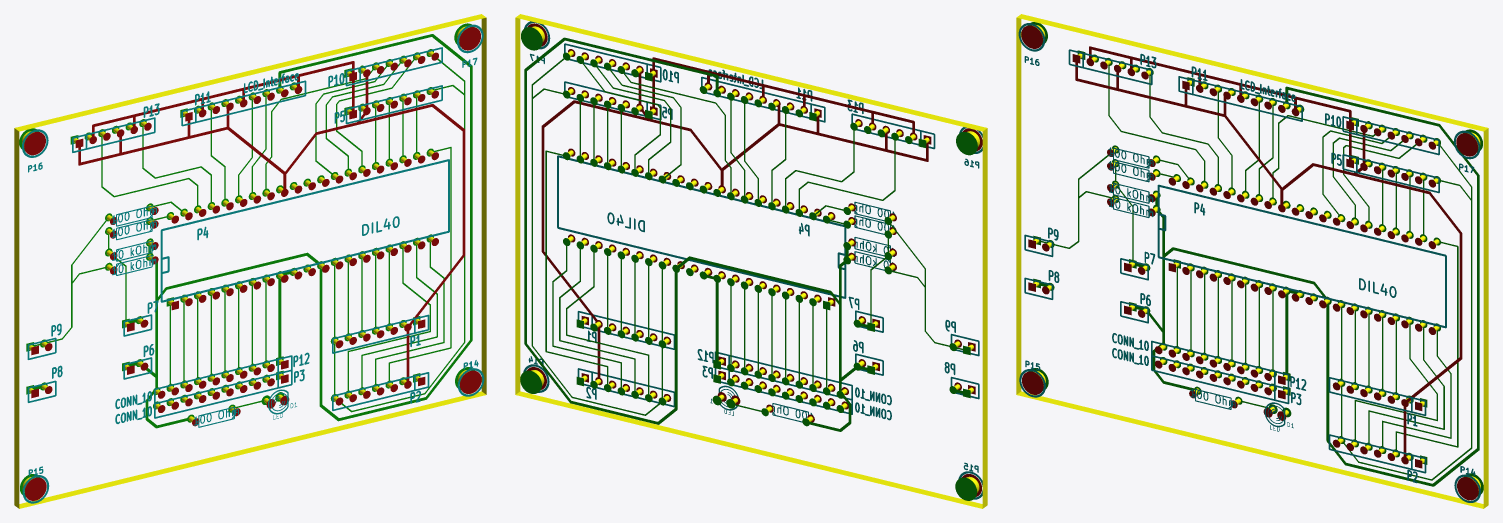
File: Schematic Ver 0.3.obj
3 views of the same model, side by side, from view 1: azimuth 30°, elevation 25°; view 2: azimuth 150°, elevation 25°; view 3: azimuth 330°, elevation 25° (orthographic).
Parts seen in each view (by area): view 1: Object.1, Object.3, Object.4, Object.2; view 2: Object.1, Object.4, Object.3, Object.2; view 3: Object.1, Object.3, Object.4, Object.2.
Part boxes in pixels (left/top/right/bottom): Object.1: left=19, top=23, right=474, bottom=496; Object.3: left=22, top=24, right=484, bottom=503; Object.4: left=14, top=14, right=486, bottom=508; Object.2: left=24, top=27, right=481, bottom=500; Object.1: left=520, top=27, right=977, bottom=500; Object.4: left=515, top=14, right=987, bottom=508; Object.3: left=523, top=21, right=982, bottom=499; Object.2: left=527, top=23, right=982, bottom=496; Object.1: left=1028, top=22, right=1483, bottom=496; Object.3: left=1018, top=23, right=1480, bottom=502; Object.4: left=1016, top=14, right=1488, bottom=508; Object.2: left=1021, top=25, right=1478, bottom=500.
Size of the model in its own units: 86.74 by 66.93 by 1.64.
